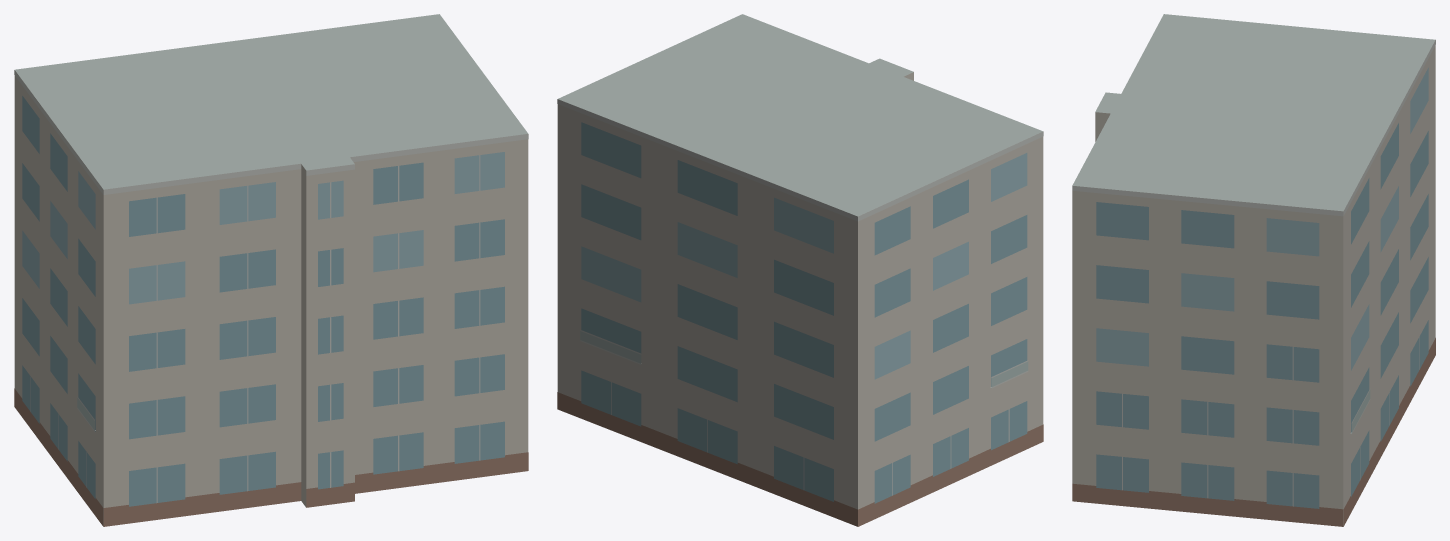
File: survey-upis-32532747.glb
3 views of the same model, side by side, from view 1: azimuth 30°, elevation 25°; view 2: azimuth 150°, elevation 25°; view 3: azimuth 270°, elevation 25° (orthographic). The views are drawn at different scales.
Visible parts, largest first — view 1: survey-upis-32532747.tmp; view 2: survey-upis-32532747.tmp; view 3: survey-upis-32532747.tmp.
Part boxes in pixels (x1,y1,x2,y2): survey-upis-32532747.tmp: [14, 14, 528, 526]; survey-upis-32532747.tmp: [557, 14, 1043, 526]; survey-upis-32532747.tmp: [1072, 14, 1435, 526].
Size of the model in its own units: 20.53 by 15.3 by 15.98.
